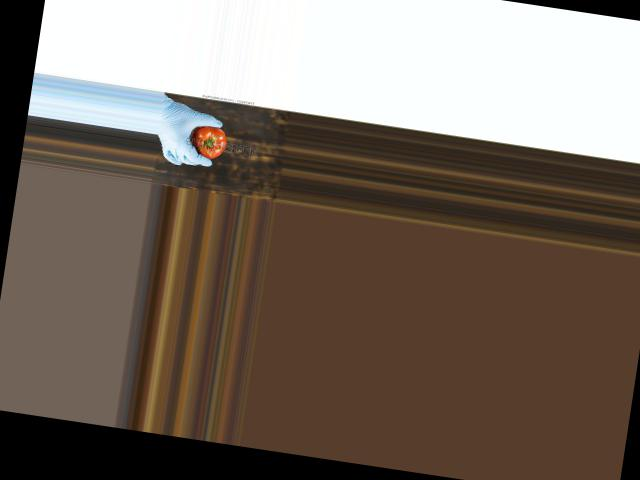tomato: (189, 123, 229, 160)
